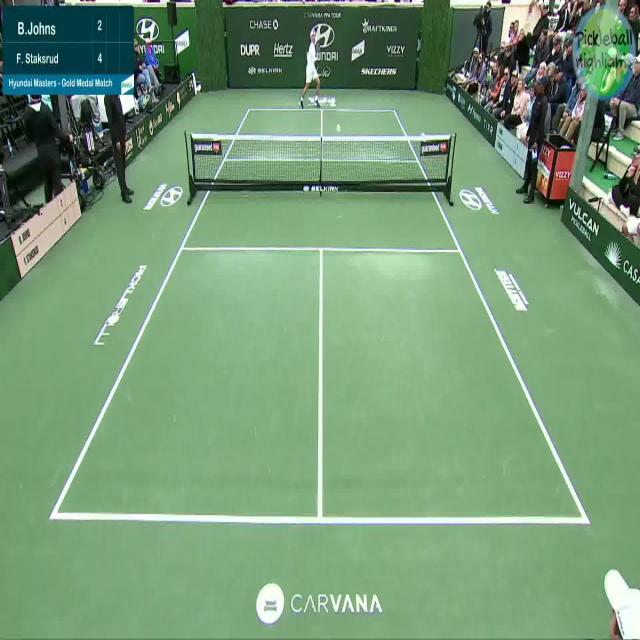Court: (52, 110, 589, 524)
ball: (333, 122, 342, 136)
